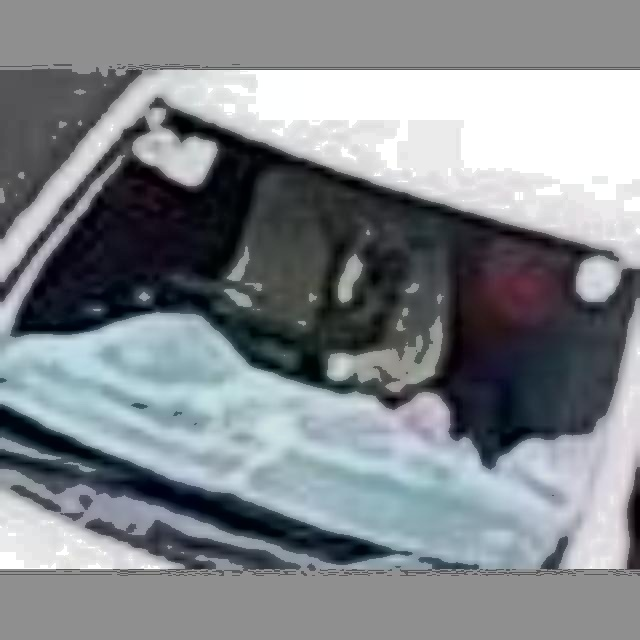tidak-pakai: (186, 153, 448, 403)
